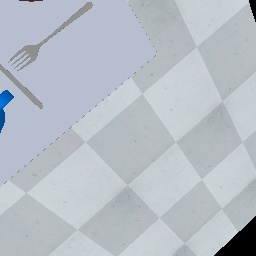Fork: (4, 13, 94, 76)
Mug: (0, 87, 18, 136)
Spoon: (1, 59, 47, 112)
